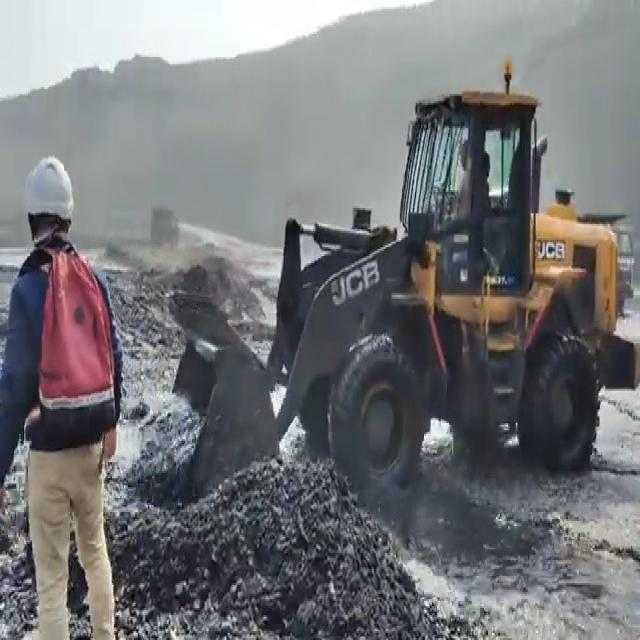buldozerpayloadergrader: (145, 62, 640, 517)
